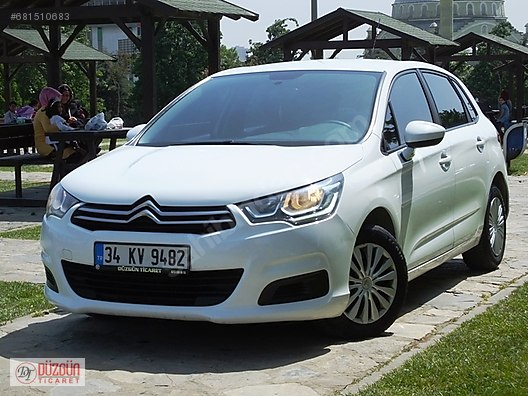citroen: (36, 56, 515, 337)
